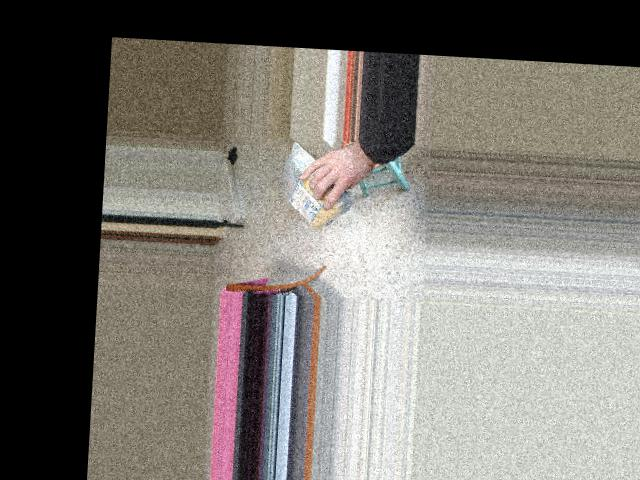cheese: (282, 143, 349, 229)
